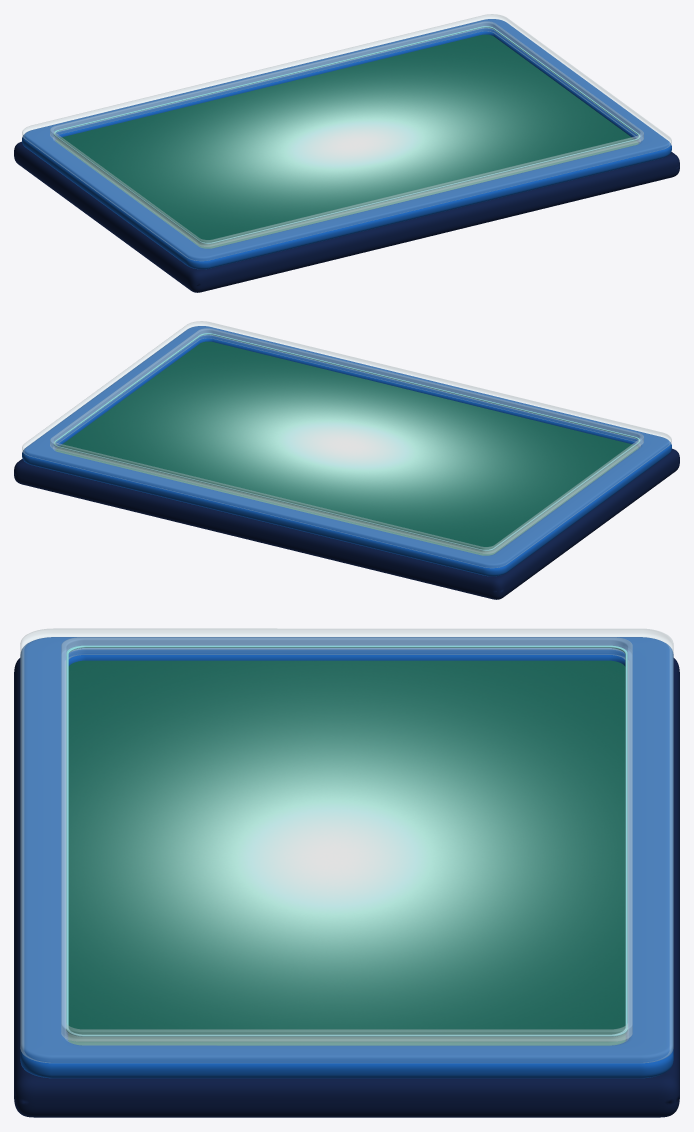
File: sichuan_table_v2.glb
3 renders of one model, top to bottom at view 1: azimuth 30°, elevation 25°; view 2: azimuth 150°, elevation 25°; view 3: azimuth 270°, elevation 25°, orthographic. The views are drawn at different scales.
Visible parts, largest first — view 1: TableFelt, WalnutApronRing, SingleClearGlassCap, TableWalnutBase, RaisedTransparentGlassLip, InnerGlassEdge; view 2: TableFelt, WalnutApronRing, SingleClearGlassCap, TableWalnutBase, RaisedTransparentGlassLip, InnerGlassEdge; view 3: TableFelt, WalnutApronRing, SingleClearGlassCap, TableWalnutBase, RaisedTransparentGlassLip, InnerGlassEdge.
Part boxes in pixels (<box>): TableFelt: <box>55,34,638,248</box>; WalnutApronRing: <box>22,19,671,269</box>; SingleClearGlassCap: <box>22,14,671,261</box>; TableWalnutBase: <box>14,141,679,292</box>; RaisedTransparentGlassLip: <box>50,21,643,246</box>; InnerGlassEdge: <box>53,26,640,244</box>; TableFelt: <box>55,341,638,555</box>; WalnutApronRing: <box>22,326,671,576</box>; SingleClearGlassCap: <box>22,321,671,568</box>; TableWalnutBase: <box>14,448,679,599</box>; RaisedTransparentGlassLip: <box>50,328,643,553</box>; InnerGlassEdge: <box>53,333,640,551</box>; TableFelt: <box>68,660,625,1045</box>; WalnutApronRing: <box>20,637,673,1078</box>; SingleClearGlassCap: <box>20,628,673,1063</box>; TableWalnutBase: <box>14,658,679,1117</box>; RaisedTransparentGlassLip: <box>61,637,632,1041</box>; InnerGlassEdge: <box>66,645,627,1036</box>.
Size of the model in its own units: 15.35 by 1.19 by 9.95.
Materials: 5 (1 with a texture image).
